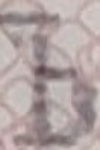S_SG_RUS: (0, 0, 99, 149)
